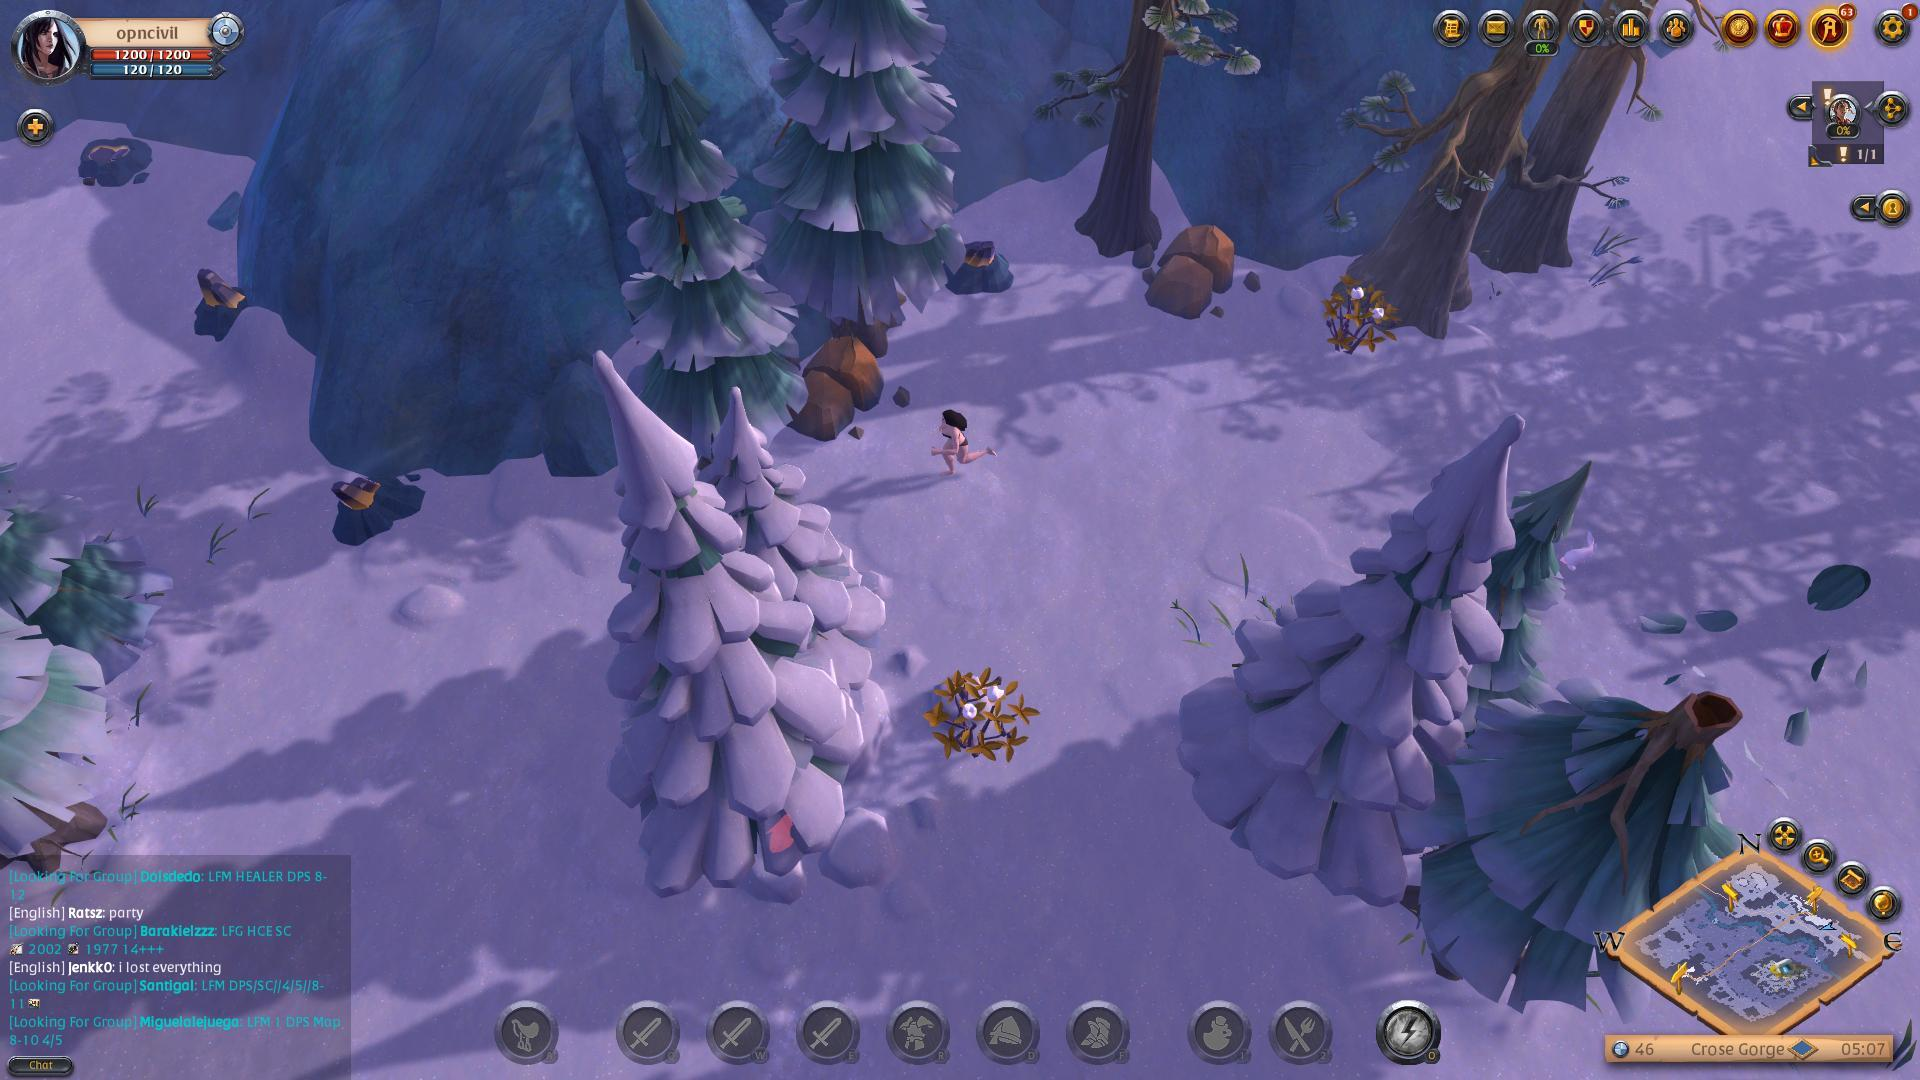copper_ore: (314, 456, 436, 550), (178, 261, 257, 340), (957, 228, 1027, 306)
cotton: (919, 674, 1050, 770), (1316, 264, 1399, 363)
limestone: (1139, 220, 1247, 330), (794, 332, 894, 448)
